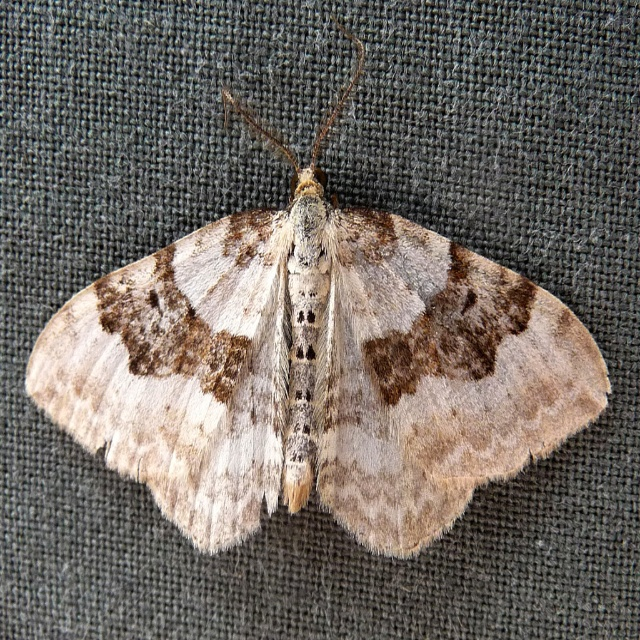Butterfly: (28, 43, 582, 560)
